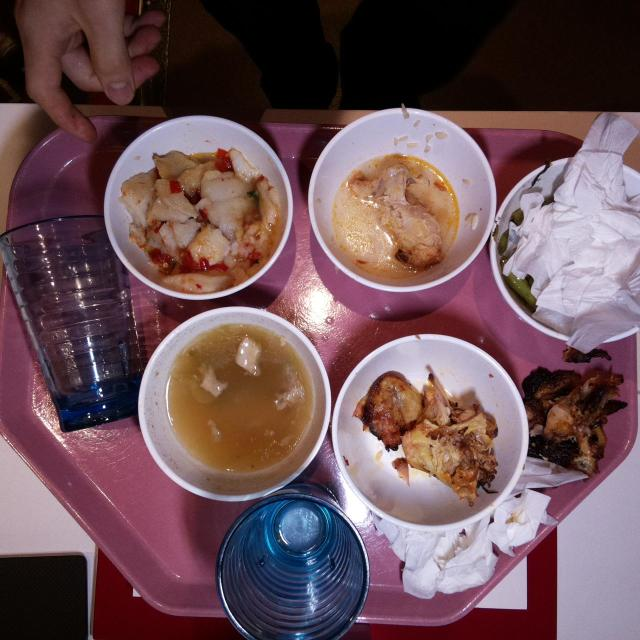Bone: (524, 365, 630, 474), (427, 370, 499, 498)
Fish: (118, 151, 280, 293)
Meat: (365, 371, 423, 448), (388, 193, 446, 269)
Vegetable: (495, 195, 557, 313)
